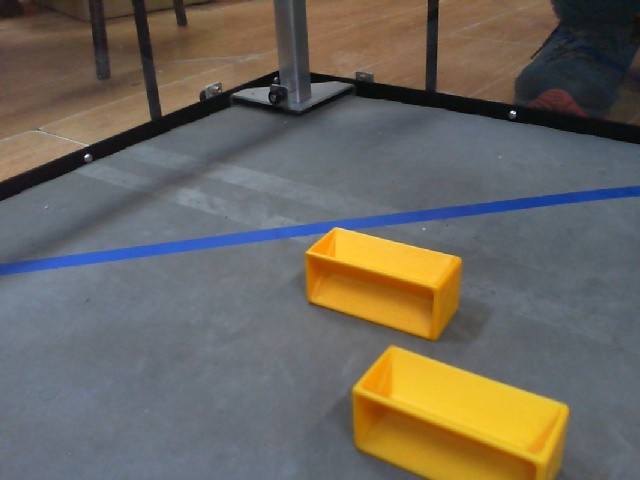YellowSample: (350, 343, 571, 480), (299, 222, 465, 341)
